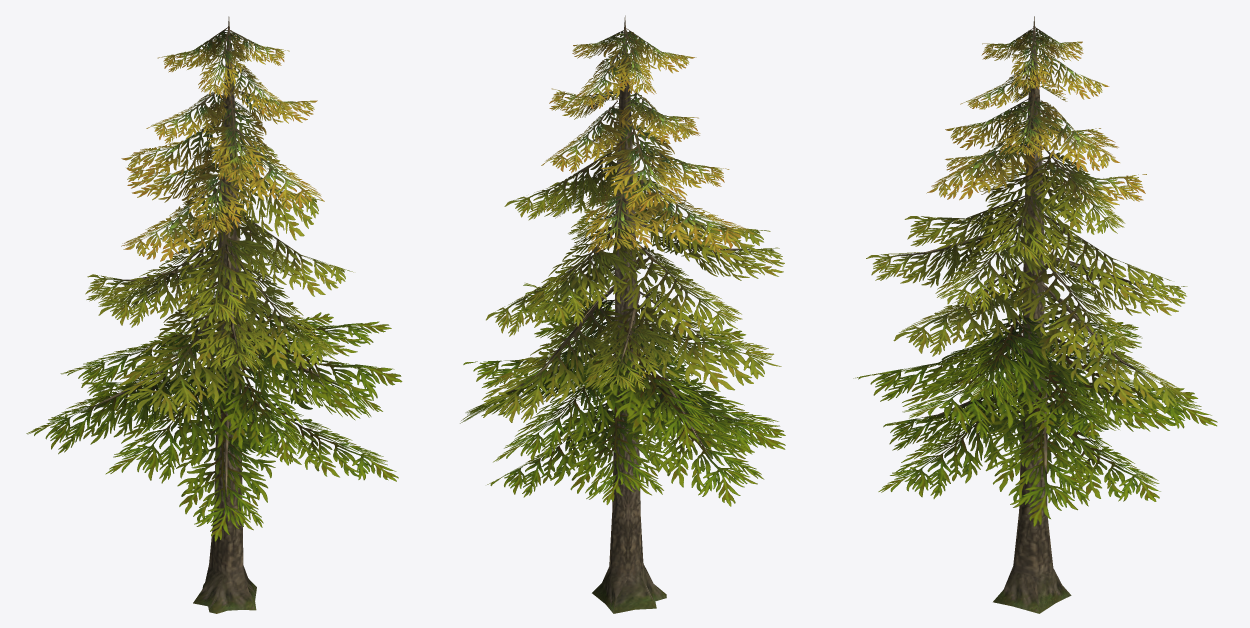
Rendered from songshu02_02.FBX.
3 views of the same model, side by side, from view 1: azimuth 30°, elevation 25°; view 2: azimuth 150°, elevation 25°; view 3: azimuth 270°, elevation 25° (orthographic).
Visible parts, largest first — view 1: songshu02_02; view 2: songshu02_02; view 3: songshu02_02.
Part boxes in pixels (<box>): songshu02_02: <box>26,16,402,613</box>; songshu02_02: <box>460,15,785,613</box>; songshu02_02: <box>853,16,1217,613</box>.
Size of the model in its own units: 5.29 by 8.79 by 5.45.
